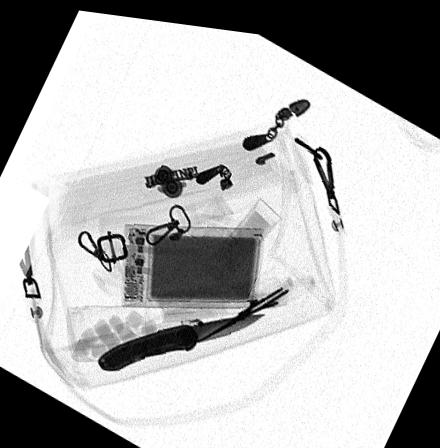Knife: (95, 305, 270, 370)
Powerbank: (119, 217, 265, 304)
Scissors: (196, 259, 322, 332)
